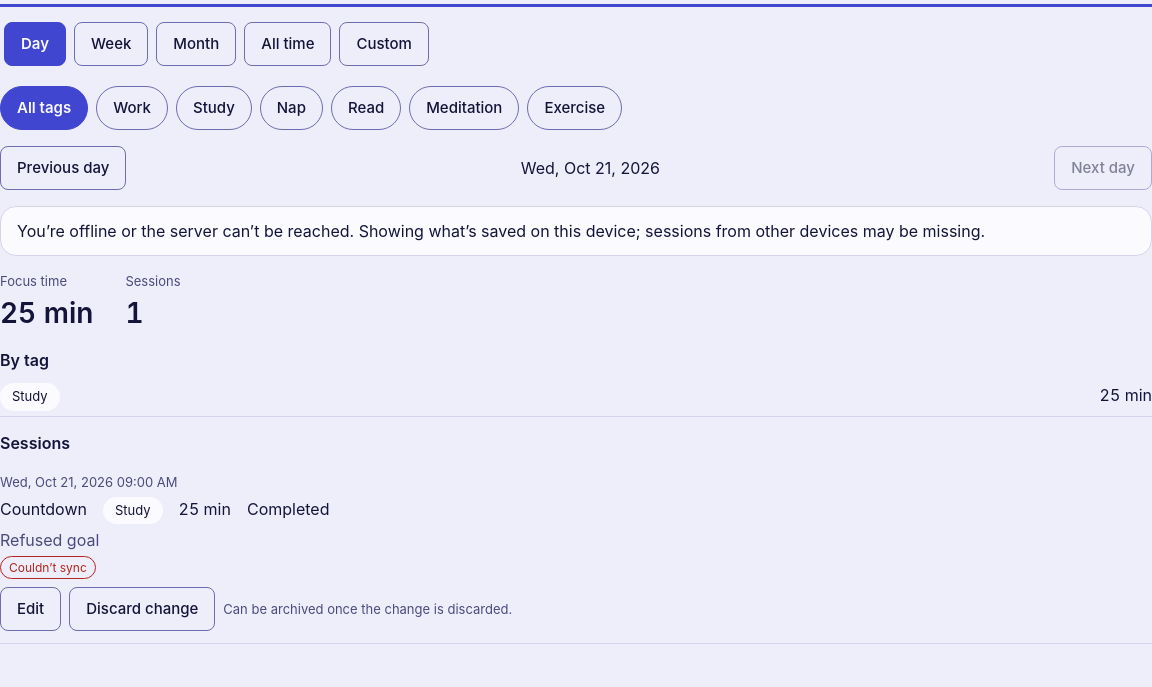
Test: Discard change: edge cases (#253) › works offline: nothing is sent and the row shows the synced tag and goal
expect the text "Refused goal" is shown: met, box [0,530,99,550]
What coordinates should you click on to do the following:
click the button with aria-label "Discard change to session"
I would click on:
 (142, 609)
Its box is [69,587,215,631].
(page scrolled)
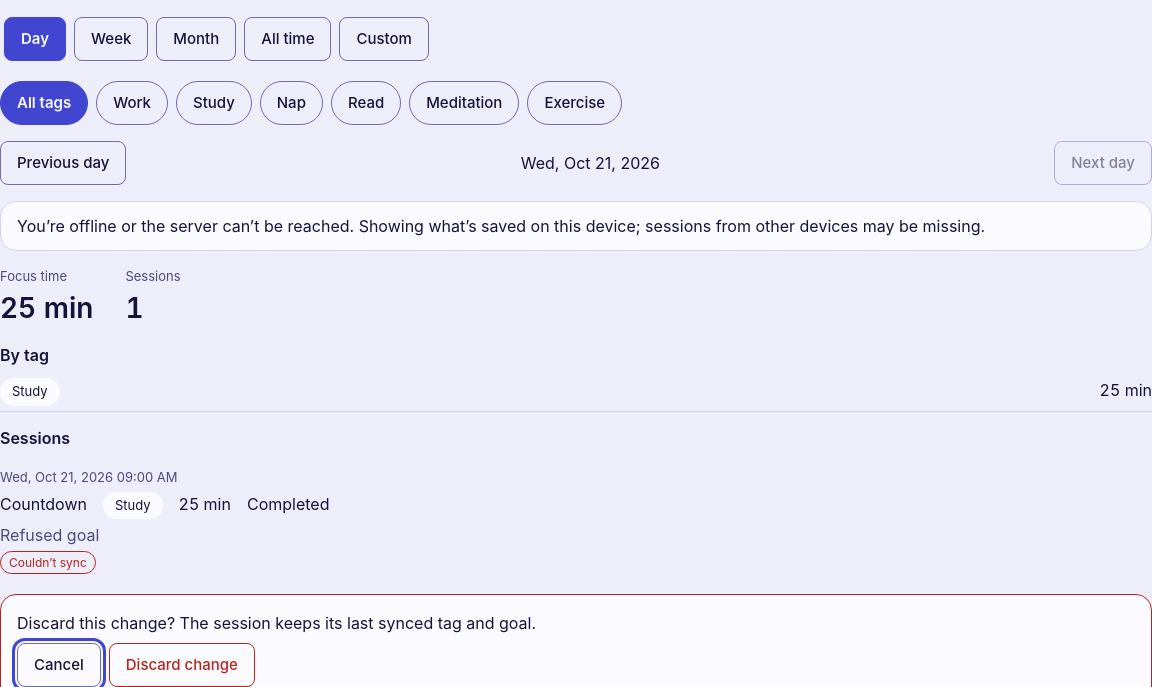
What coordinates should you click on to do the following:
click the button "Discard change"
I would click on:
 (182, 665)
Its box is [109,643,255,686].
(page scrolled)
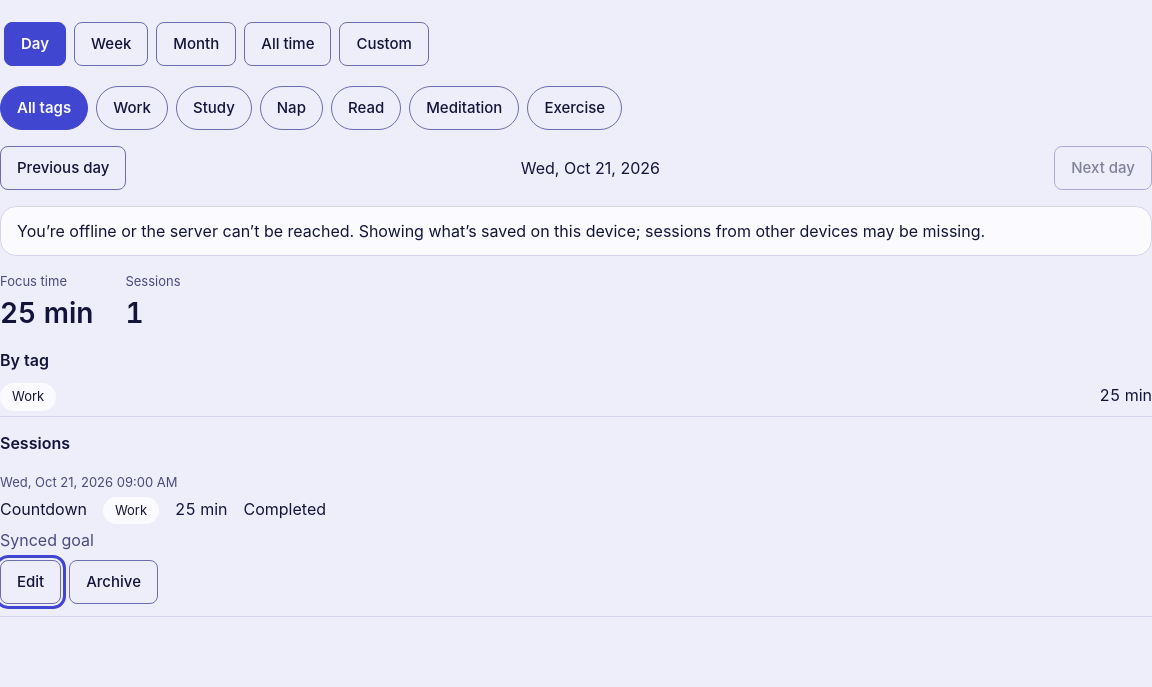
expect the text "Synced goal" is shown: met, box [0,530,94,550]
expect the text "Refused goal" is gone: met
